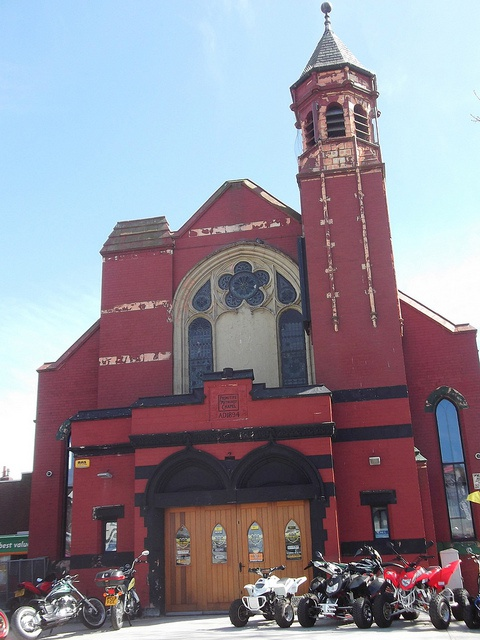non-vehicle: (366, 539, 461, 631), (296, 546, 383, 630), (8, 573, 107, 640), (228, 562, 308, 627), (99, 549, 151, 640), (4, 569, 67, 612), (451, 546, 479, 628)
